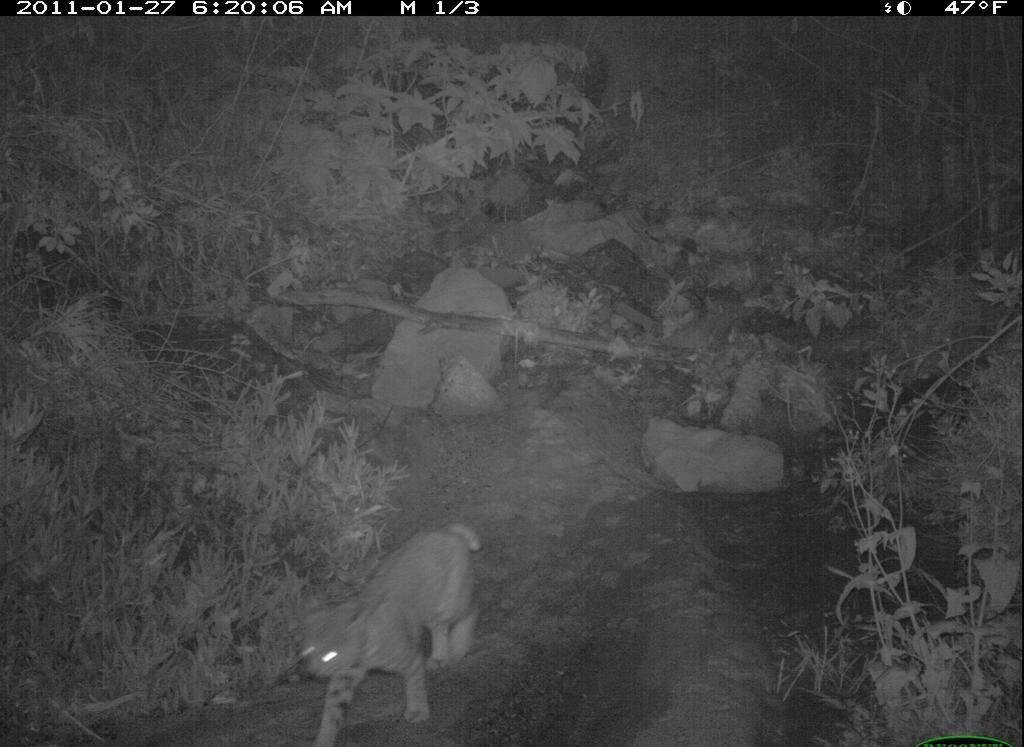bobcat: (283, 514, 493, 747)
